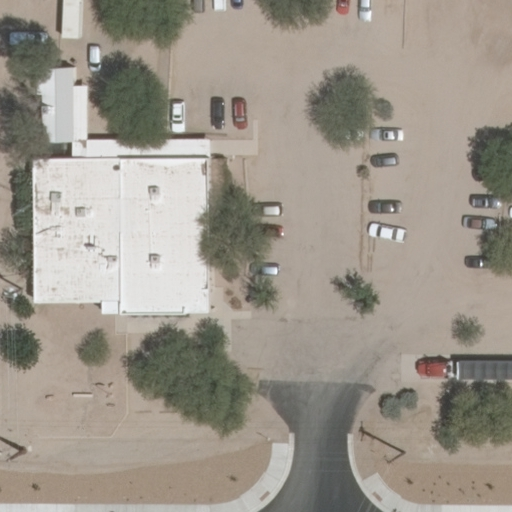DT: (2, 439, 37, 467), (2, 276, 30, 307), (383, 444, 408, 468)
